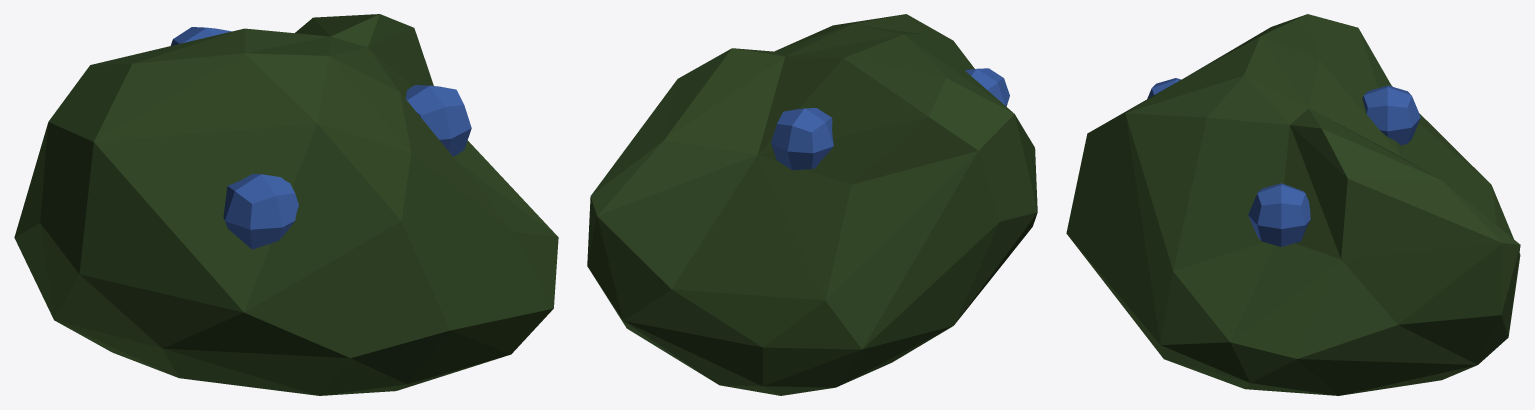
Rendered from BushVar4_V2.fbx.
3 views of the same model, side by side, from view 1: azimuth 30°, elevation 25°; view 2: azimuth 150°, elevation 25°; view 3: azimuth 270°, elevation 25° (orthographic). The views are drawn at different scales.
Visible parts, largest first — view 1: Sphere.005, Cube.009; view 2: Sphere.005, Cube.009; view 3: Sphere.005, Cube.009.
Boxes of the visible parts, box(x1,y1,x2,y2) form: Sphere.005: box(14, 14, 558, 395); Cube.009: box(170, 27, 471, 249); Sphere.005: box(587, 14, 1037, 395); Cube.009: box(771, 68, 1009, 170); Sphere.005: box(1066, 14, 1520, 395); Cube.009: box(1147, 78, 1420, 246).
Size of the model in its own units: 109 by 82.62 by 115.
